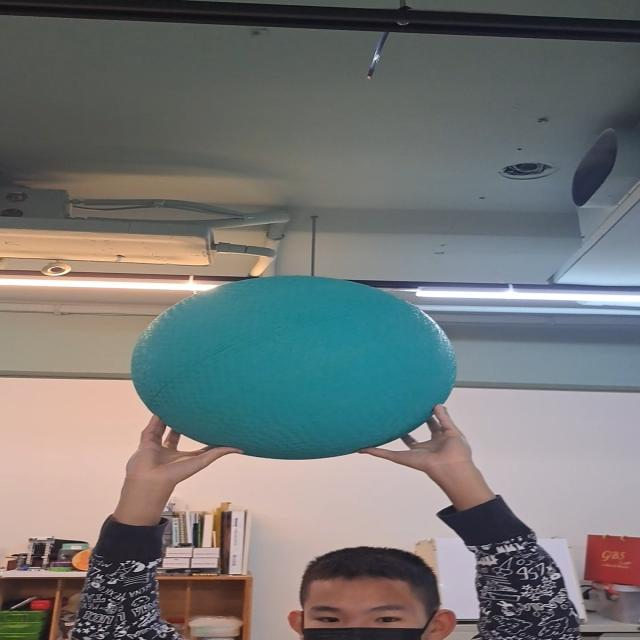ALGAE: (131, 275, 460, 460)
